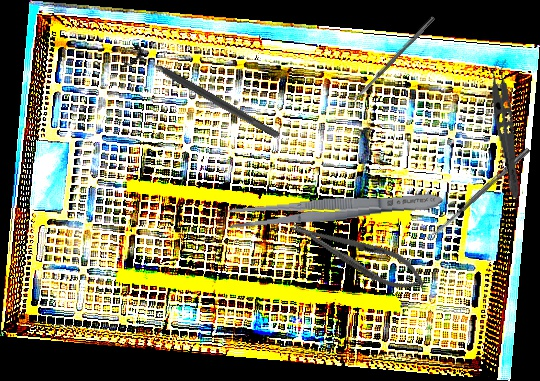Dressing Forceps: (225, 187, 445, 232)
Fixation Ring: (123, 42, 285, 148)
Needle Holder: (285, 209, 431, 300)
Surgical Spoon: (426, 146, 531, 242), (350, 15, 436, 104)
Tissue Forceps: (484, 58, 533, 200)
